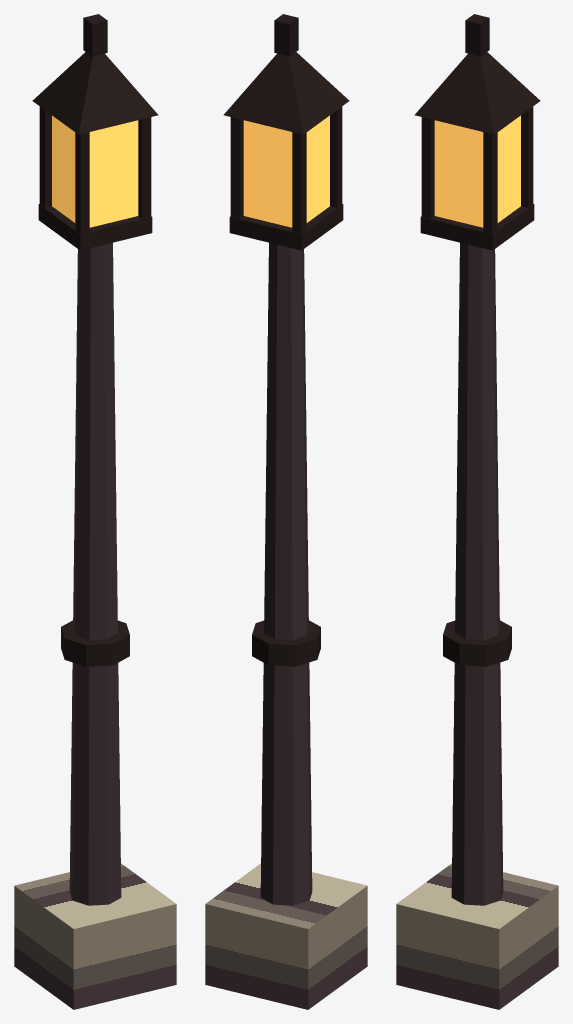
File: lamp_post.glb
The picture shows the model from 3 angles, left to right: view 1: azimuth 30°, elevation 25°; view 2: azimuth 150°, elevation 25°; view 3: azimuth 330°, elevation 25°; orthographic projection.
Parts seen in each view (by area): view 1: lamp_post; view 2: lamp_post; view 3: lamp_post.
Part boxes in pixels (box(x1,y1,x2,y2)): lamp_post: box(14, 14, 176, 1009); lamp_post: box(205, 14, 367, 1009); lamp_post: box(396, 14, 558, 1009).
Bounding box in the file's own units: 0.4 × 3.55 × 0.4.
3 materials, 1 textured.
